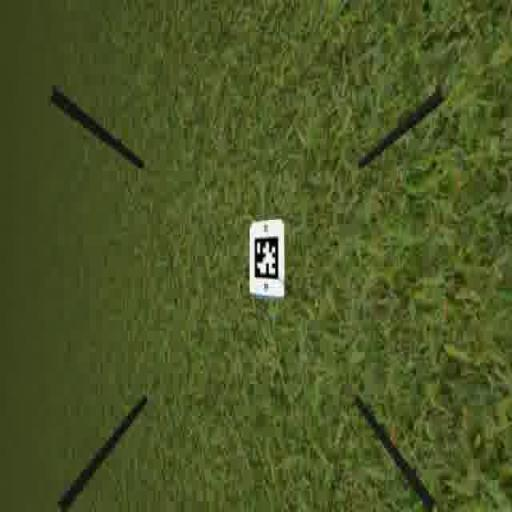UGV: (247, 217, 286, 304)
